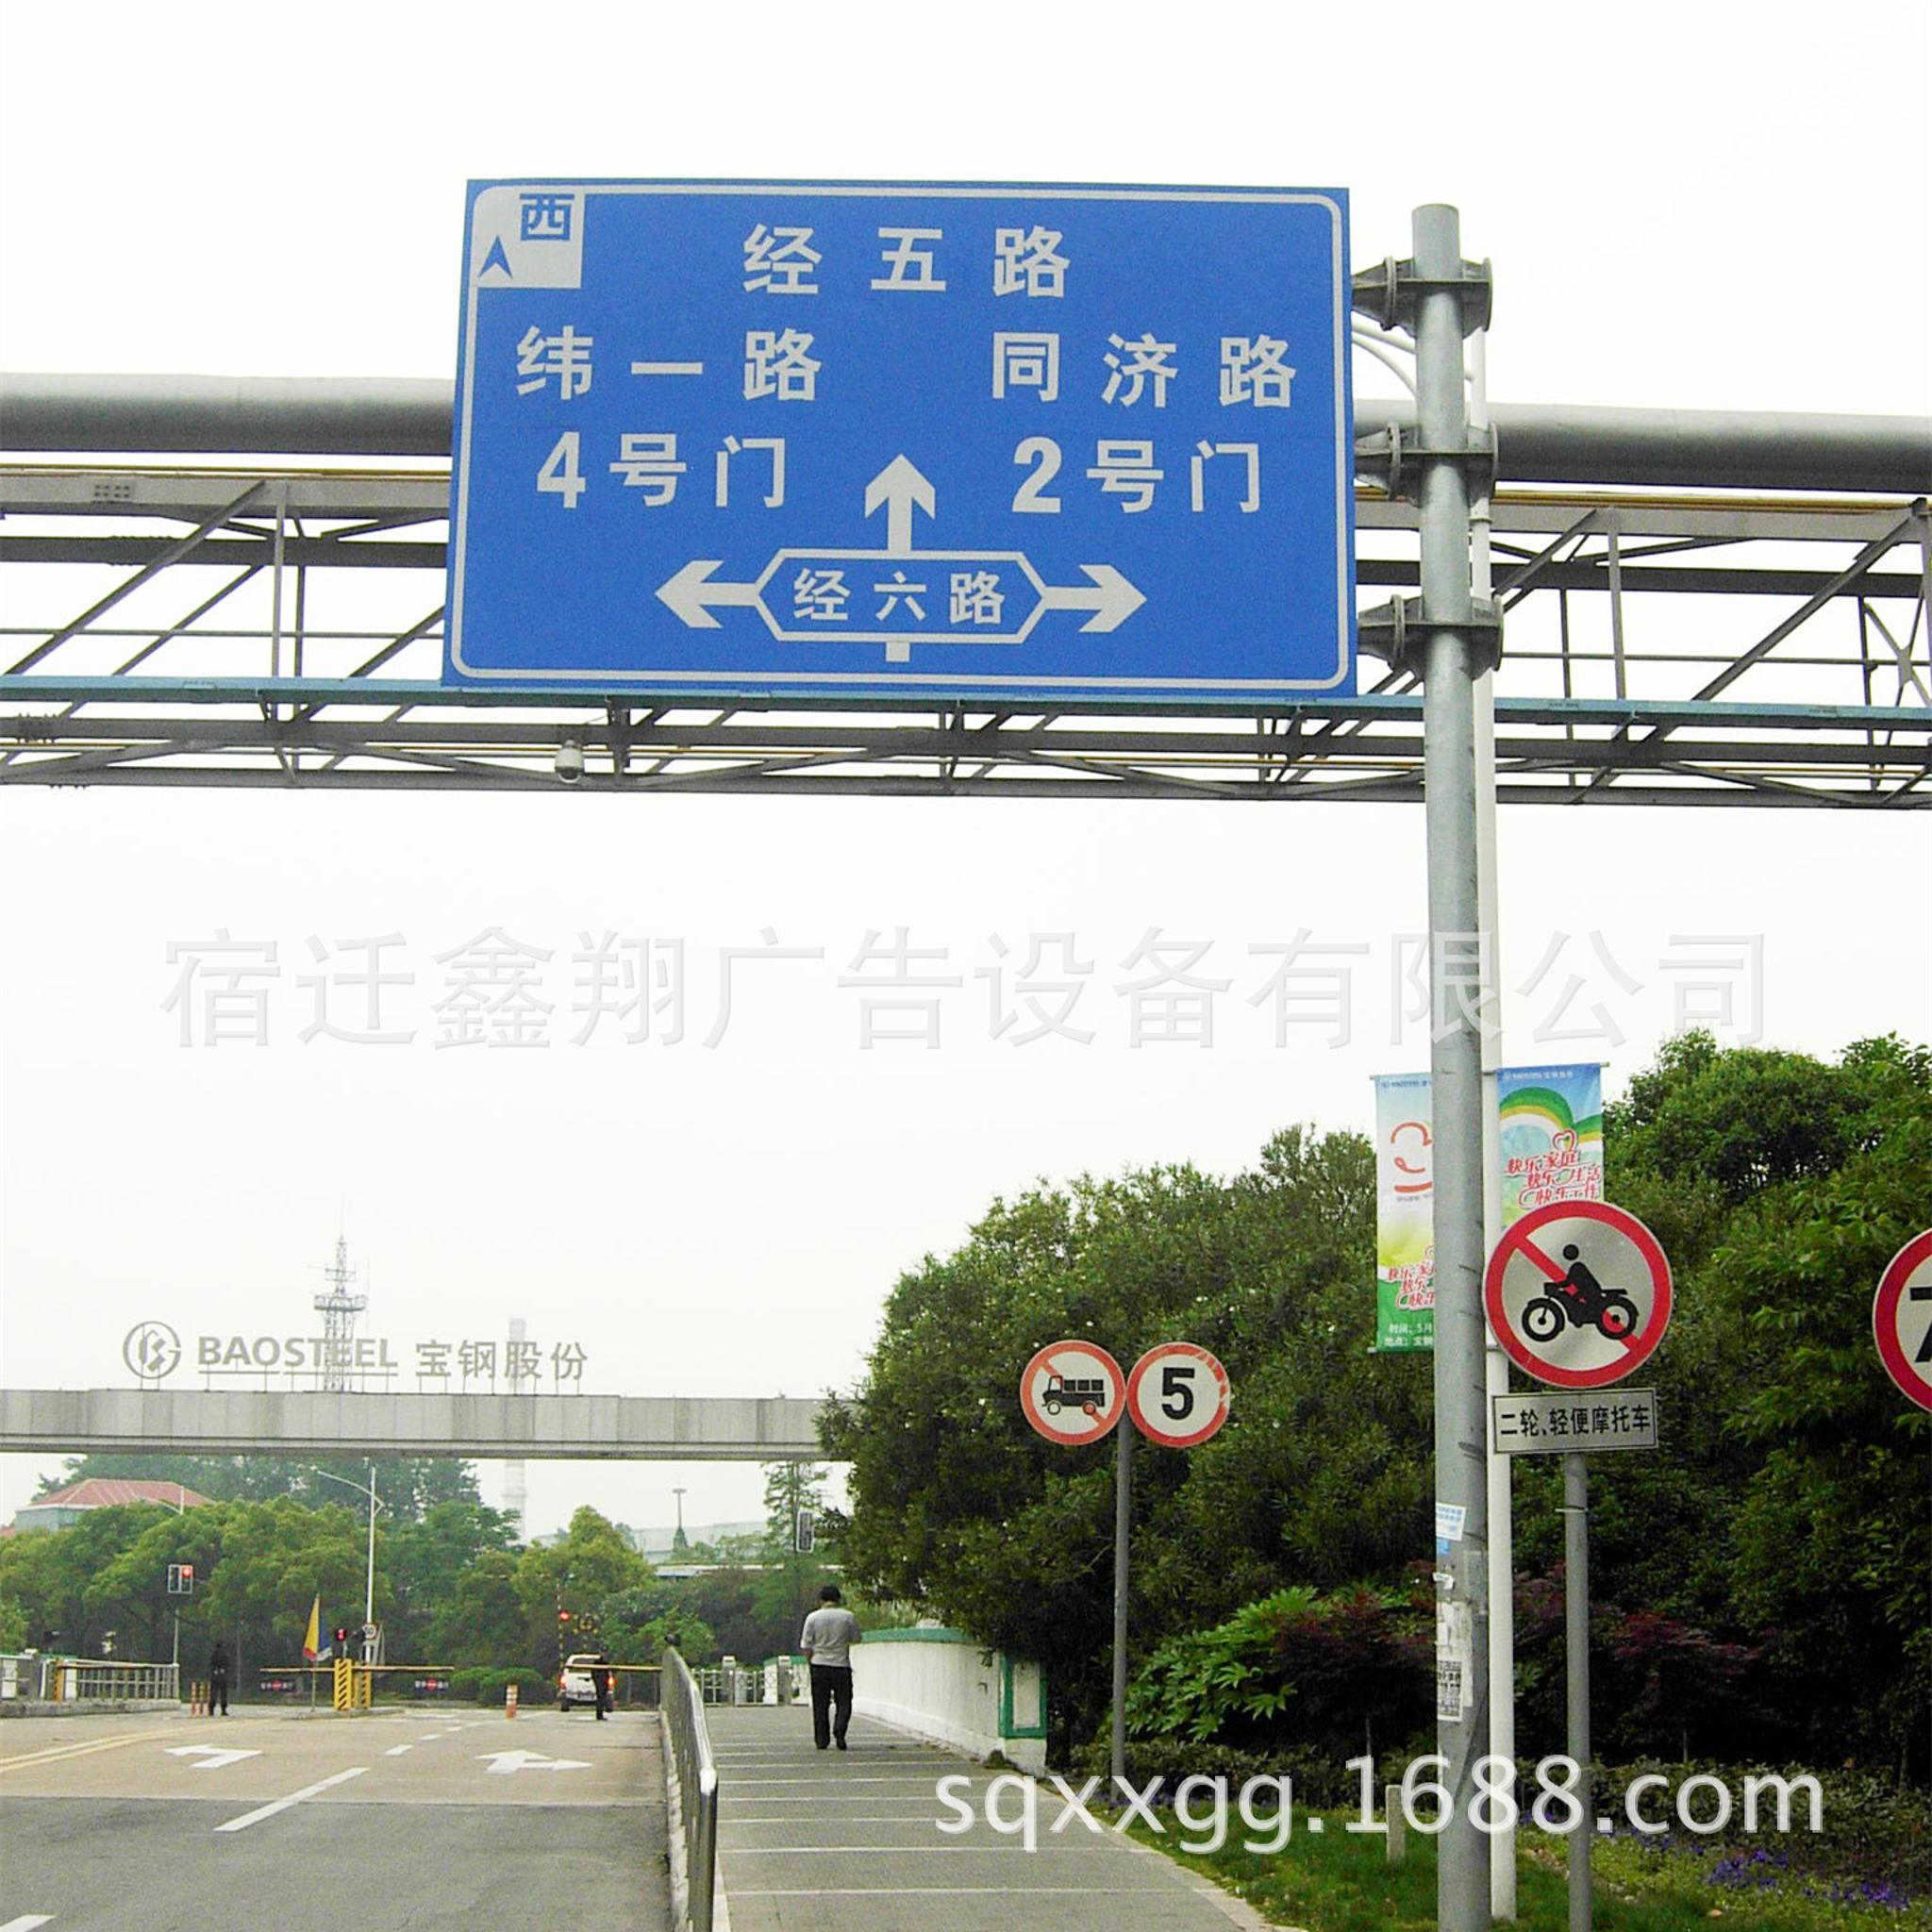p12: (1488, 1198, 1674, 1391)
p26: (1021, 1339, 1127, 1445)
pl5: (1129, 1343, 1231, 1445)
